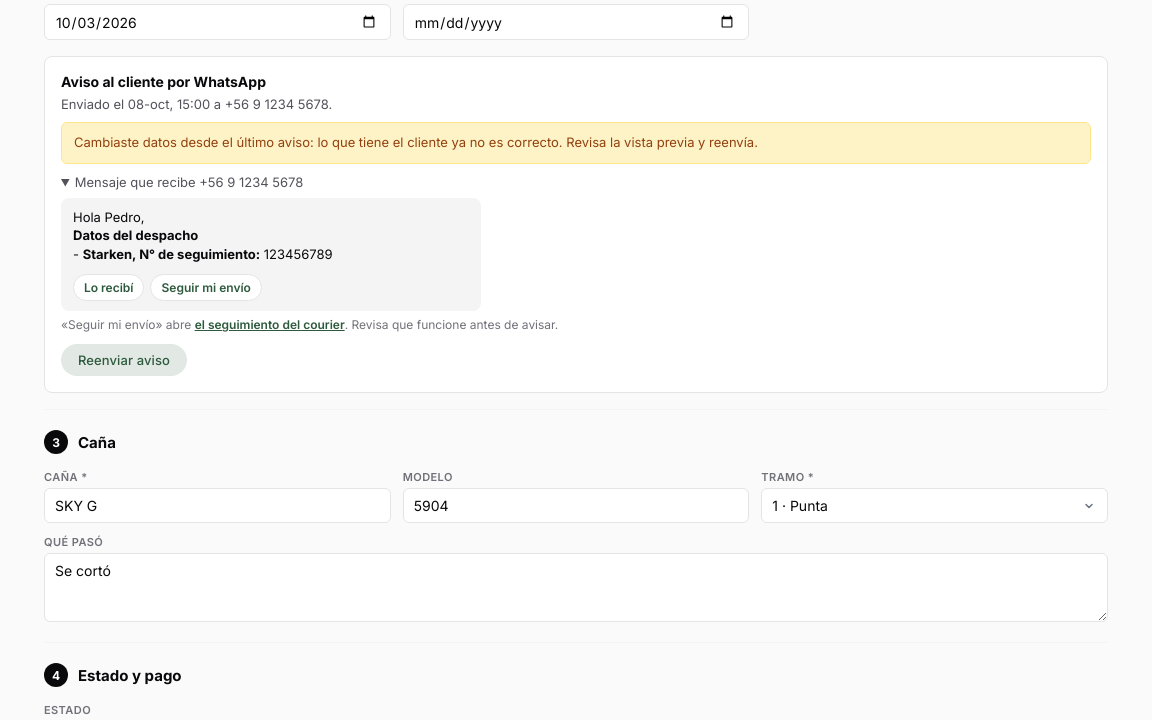
Test case: GarantiaFicha — aviso por WhatsApp › reenviar pregunta y manda reenviar=true
(page scrolled)
Click the button "Reenviar aviso". click: (124, 360)
box: [61, 344, 187, 376]
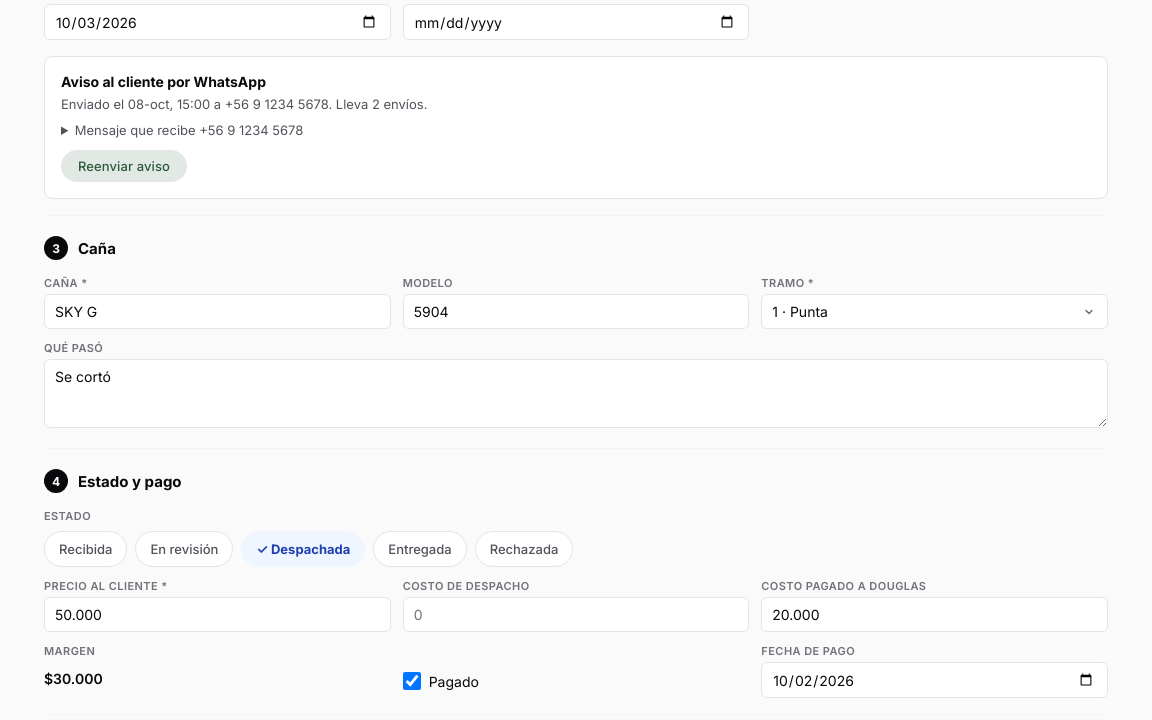
Expected: the text "Lleva 2 envíos." is shown, [61, 96, 427, 112]
